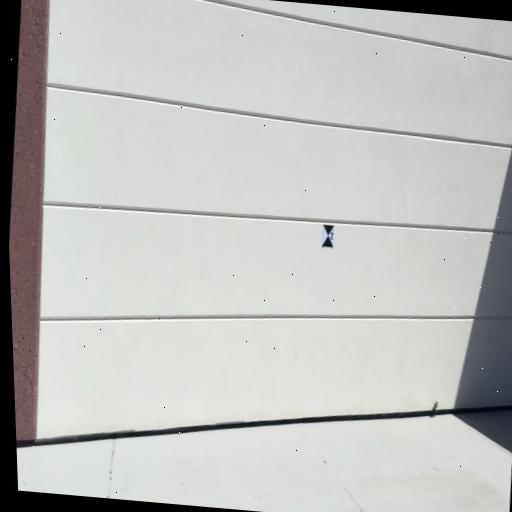target7: (322, 224, 335, 247)
